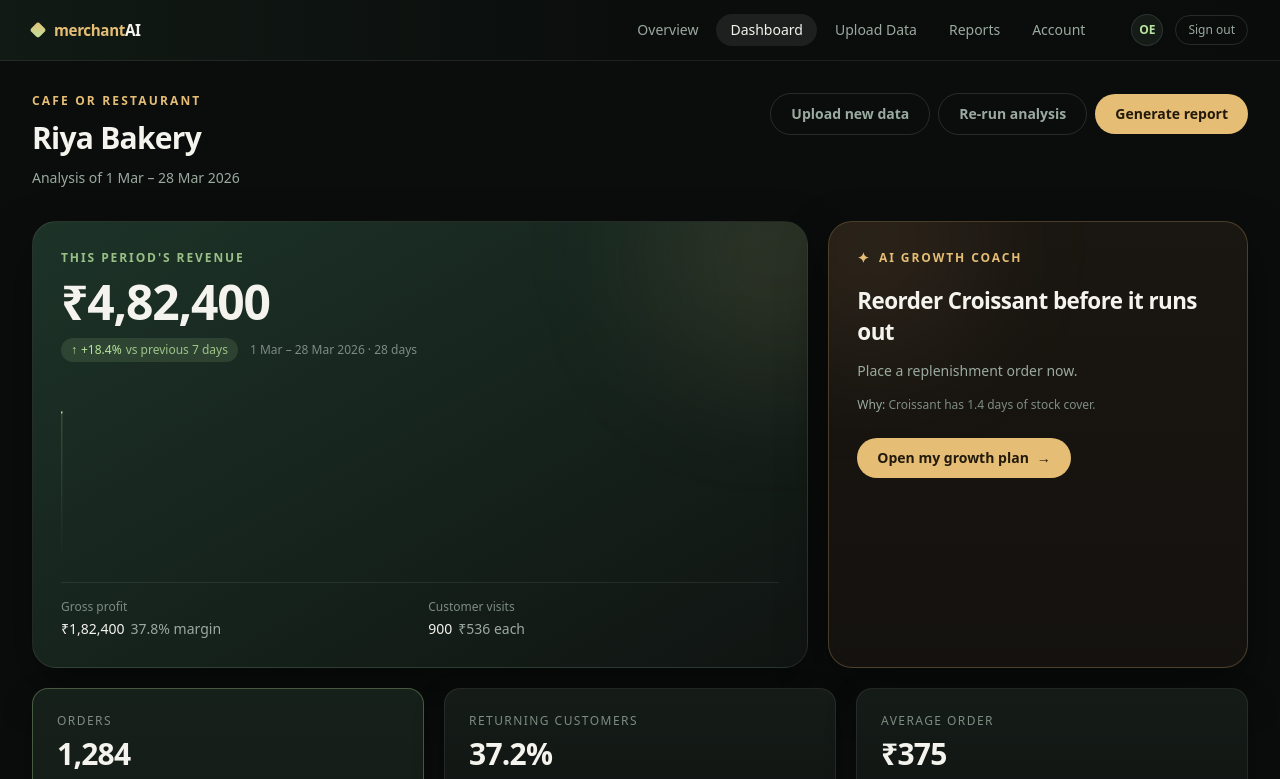
Scenario: private dashboard › generates a report from the shown analysis
The width and height of the screenshot is (1280, 779).
Expected: the heading "Riya Bakery" is shown, [32,117,201,158]
Click the button "Generate report": (1172, 114) [1095,94,1248,134]
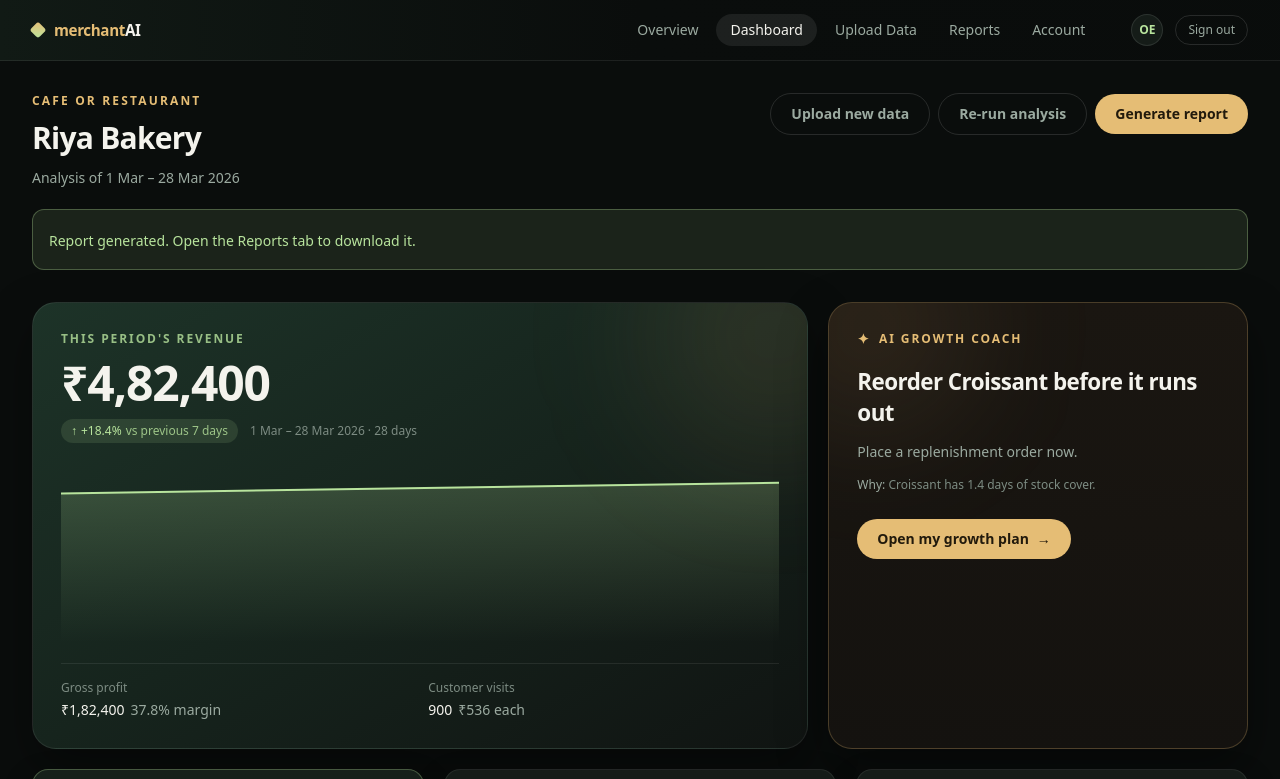
Expected: the text "Report generated. Open the Reports tab to download it." is shown, [49,231,416,250]
